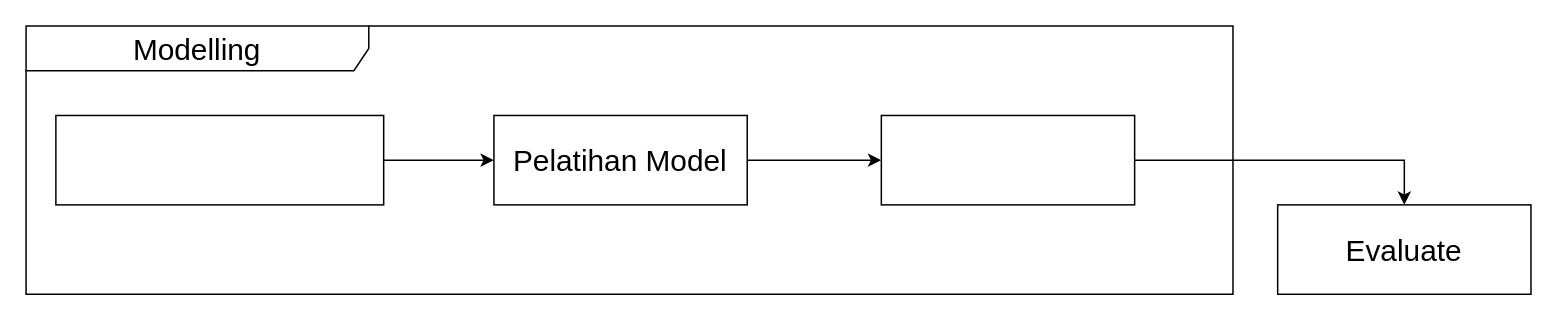
This 1557x320 diagram has some shape labels left out. The shapes that lost their labels are listed below. From the top down, each one's centre as x and y in pixels, then its label:
pixel 219 159: Mendapatkan Depedency Yolov8
pixel 1007 159: Testing Model
